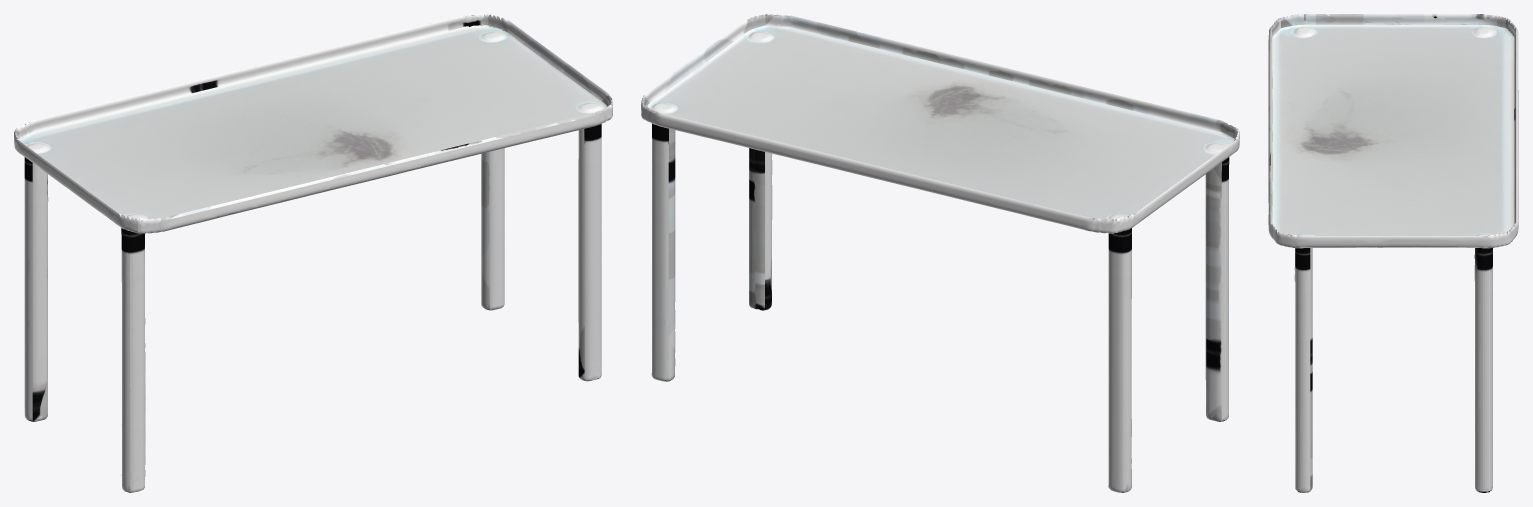
Rendered from desk__desk#5.glb.
The picture shows the model from 3 angles, left to right: view 1: azimuth 30°, elevation 25°; view 2: azimuth 150°, elevation 25°; view 3: azimuth 270°, elevation 25°; orthographic projection. The views are drawn at different scales.
Parts seen in each view (by area): view 1: tmp_uifeuuq.ply; view 2: tmp_uifeuuq.ply; view 3: tmp_uifeuuq.ply.
Boxes of the visible parts, x1,y1,x2,y2 form: tmp_uifeuuq.ply: (14, 14, 612, 492); tmp_uifeuuq.ply: (641, 14, 1239, 492); tmp_uifeuuq.ply: (1268, 14, 1518, 492).
Bounding box in the file's own units: 1.99 × 1.09 × 0.9439.
Materials: 1 (1 with a texture image).
